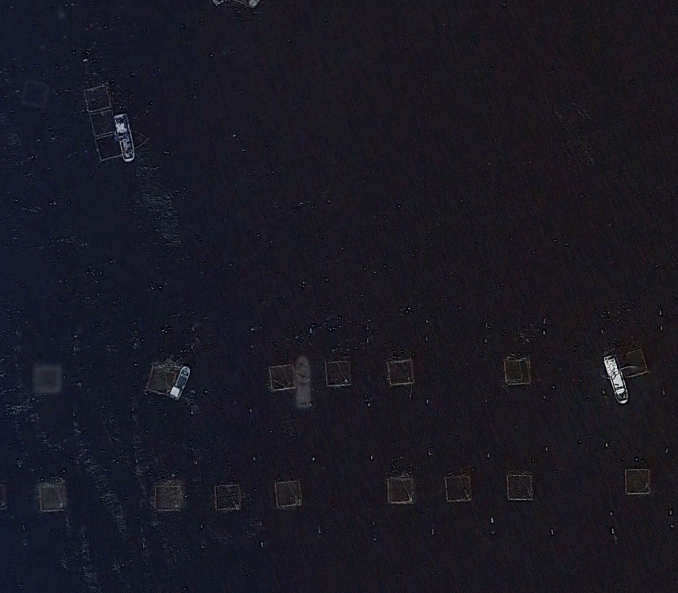ship: (601, 349, 632, 405), (110, 106, 137, 165), (291, 353, 316, 412), (168, 363, 193, 400)
square: (30, 472, 77, 520), (139, 358, 188, 403), (500, 464, 542, 510), (27, 357, 70, 399), (207, 478, 251, 519), (152, 473, 190, 519), (270, 473, 311, 514), (615, 341, 655, 383), (385, 469, 423, 511), (74, 79, 118, 114), (442, 467, 480, 507), (498, 352, 538, 389), (263, 358, 301, 395), (381, 352, 417, 391), (83, 105, 124, 139), (621, 462, 657, 499), (93, 128, 127, 167), (323, 354, 357, 391), (20, 76, 55, 109)
